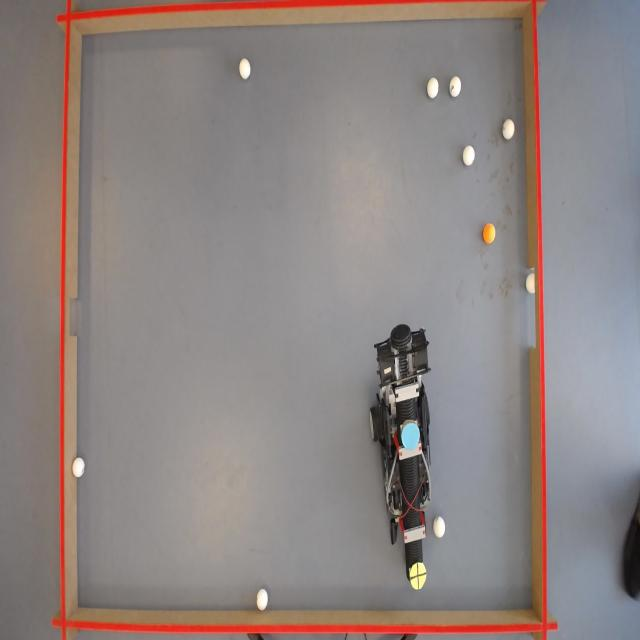orange: (484, 225, 498, 246)
robot: (372, 325, 435, 589)
robot-front: (411, 562, 429, 593)
robot-rear: (403, 421, 422, 452)
white: (255, 589, 269, 612), (72, 456, 86, 479), (426, 76, 440, 98), (239, 58, 253, 80), (462, 145, 476, 166), (502, 120, 515, 142), (450, 76, 462, 98), (436, 518, 448, 539), (526, 274, 537, 294)
